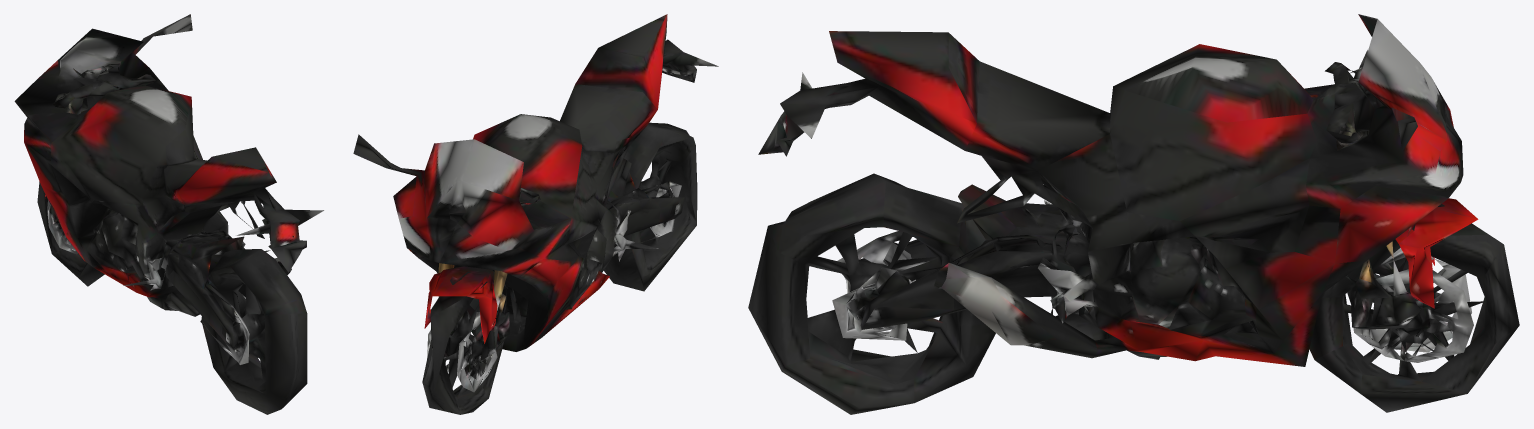
Rendered from bike-lod.glb.
3 renders of one model, left to right at view 1: azimuth 30°, elevation 25°; view 2: azimuth 150°, elevation 25°; view 3: azimuth 270°, elevation 25°, orthographic. The views are drawn at different scales.
Visible parts, largest first — view 1: tripo_node_e2e66edc-f3bd-430e-8c2e-db024297c3db; view 2: tripo_node_e2e66edc-f3bd-430e-8c2e-db024297c3db; view 3: tripo_node_e2e66edc-f3bd-430e-8c2e-db024297c3db.
Part boxes in pixels (x1,y1,x2,y2): tripo_node_e2e66edc-f3bd-430e-8c2e-db024297c3db: (14, 14, 323, 414); tripo_node_e2e66edc-f3bd-430e-8c2e-db024297c3db: (353, 14, 718, 414); tripo_node_e2e66edc-f3bd-430e-8c2e-db024297c3db: (748, 14, 1519, 414).
Bounding box in the file's own units: 0.4102 × 0.5569 × 0.9854.
1 material, 1 textured.
